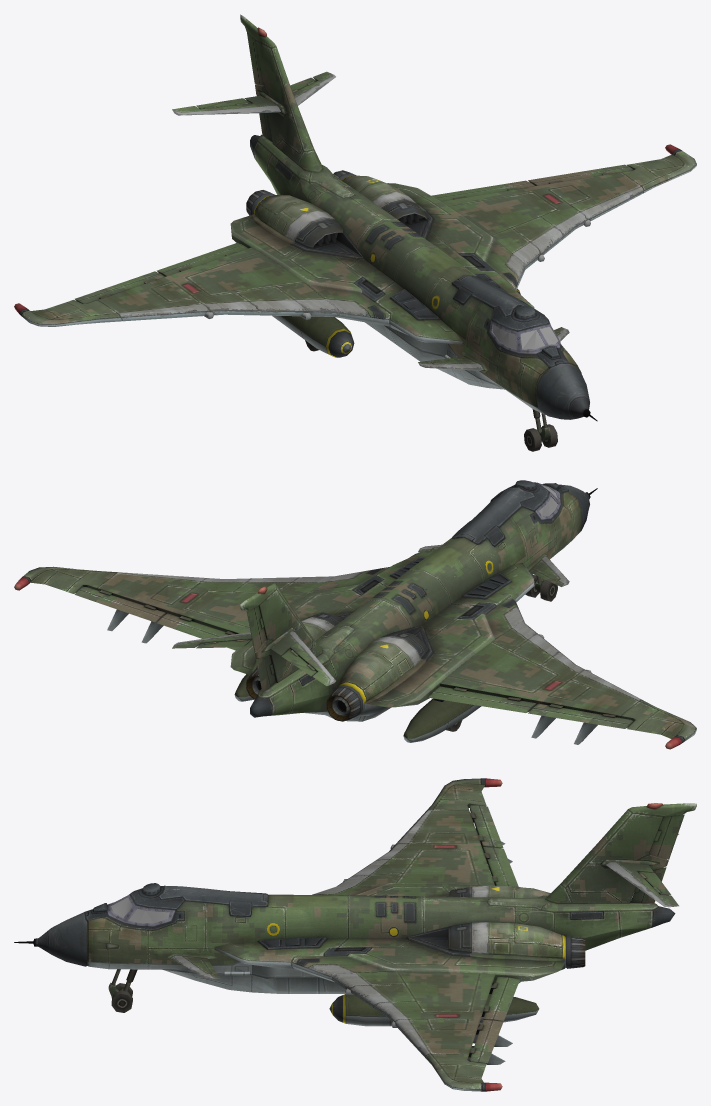
File: au_airbomber.fbx
The picture shows the model from 3 angles, top to bottom: view 1: azimuth 30°, elevation 25°; view 2: azimuth 150°, elevation 25°; view 3: azimuth 270°, elevation 25°; orthographic projection. The views are drawn at different scales.
Parts seen in each view (by area): view 1: AU_AirBomber_FactionVehicle_2UV, AU_AirBomber_FactionVehicle_Glass; view 2: AU_AirBomber_FactionVehicle_2UV; view 3: AU_AirBomber_FactionVehicle_2UV, AU_AirBomber_FactionVehicle_Glass.
Part boxes in pixels (<box>): AU_AirBomber_FactionVehicle_2UV: <box>14,14,696,451</box>; AU_AirBomber_FactionVehicle_Glass: <box>492,325,558,349</box>; AU_AirBomber_FactionVehicle_2UV: <box>14,480,696,749</box>; AU_AirBomber_FactionVehicle_2UV: <box>14,778,696,1091</box>; AU_AirBomber_FactionVehicle_Glass: <box>111,897,169,923</box>.
Size of the model in its own units: 530 by 163 by 493.
Materials: 2 (1 with a texture image).
